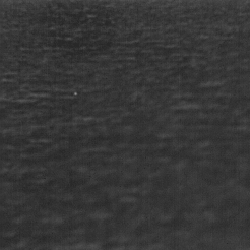dim target: (72, 89, 78, 97)
